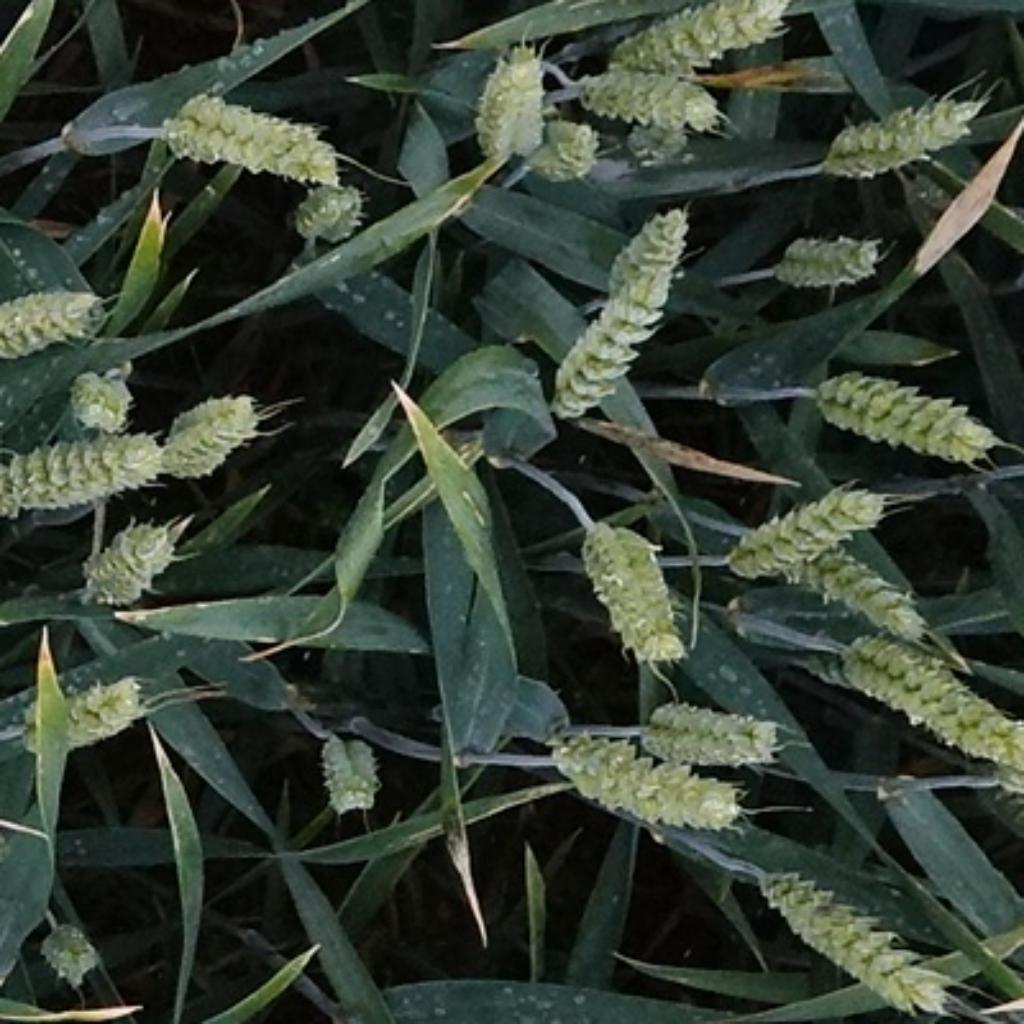0-0: (740, 847, 955, 1019), (532, 716, 739, 837), (527, 261, 675, 430), (844, 640, 1024, 775), (721, 473, 903, 601), (568, 501, 697, 681), (805, 356, 1002, 464), (157, 84, 341, 191), (807, 92, 987, 192), (4, 428, 186, 523), (601, 0, 803, 79), (799, 540, 947, 641), (66, 506, 196, 614), (636, 698, 793, 781), (460, 38, 552, 171), (570, 69, 734, 138), (586, 194, 698, 294), (151, 378, 263, 476), (763, 217, 888, 301), (40, 660, 151, 750), (0, 271, 112, 360), (61, 360, 142, 449), (314, 724, 391, 814), (527, 112, 615, 190), (286, 168, 368, 238), (31, 919, 103, 990)
